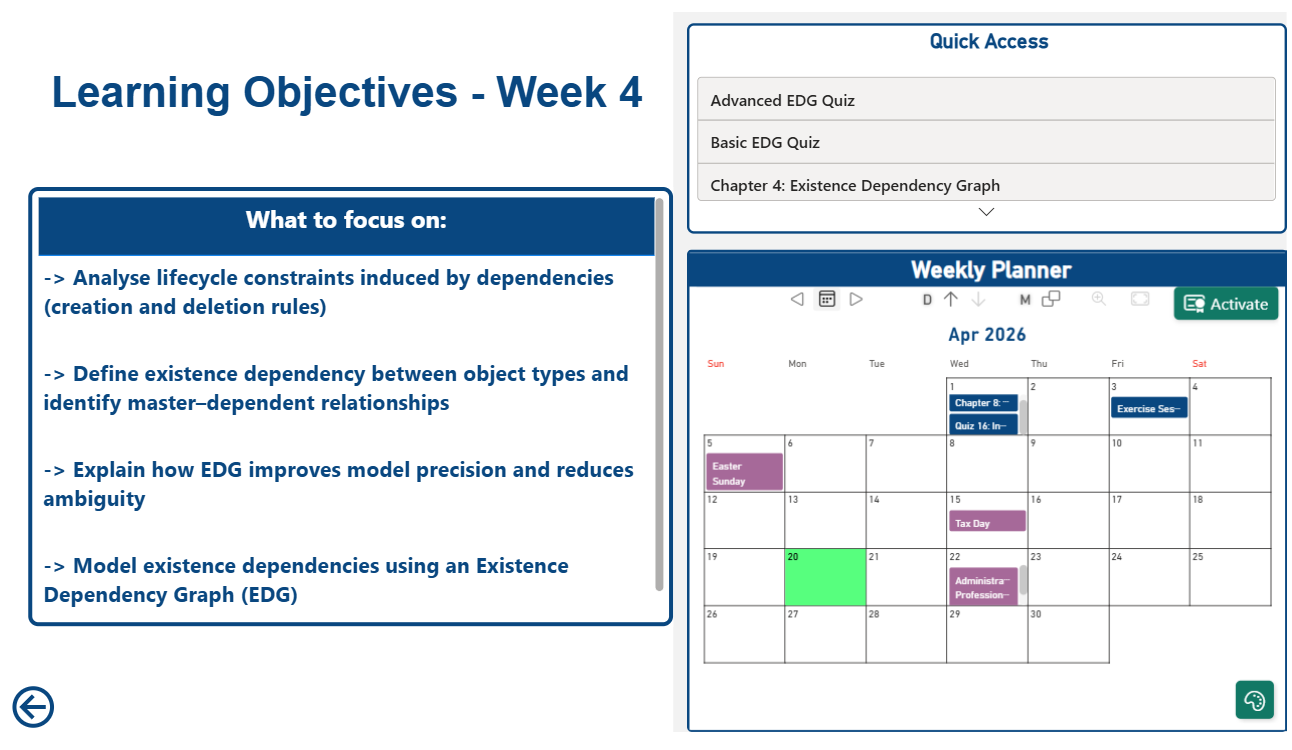

What the dashboard file says about the page in this screenshot:
{"tool":"powerbi","page":{"name":"Learning Objectives","canvas":[1280,720],"ordinal":1},"visuals":[{"type":"card","fields":{"Values":["Objectives.Selected Week Title"]},"box":[0,29.6,679.7,94.9],"z":1000},{"type":"shape","box":[666.3,0,613.4,720],"z":2000},{"type":"tableEx","fields":{"Values":["Objectives.BOBJ"]},"box":[21.5,175.5,644.8,438.8],"z":4000},{"type":"calendarProByOKVIZ359F68153F3C4C1B84994D4D62ED4EAC","title":"Weekly Planner","fields":{"events":["SemesterPlan.Event Name"],"date":["SemesterPlan.AdjustedDate"]},"box":[679.7,237.3,600,482.7],"z":5000},{"type":"cardVisual","title":"Quick Access","fields":{"Rows":["SemesterPlan.Event Name"]},"box":[679.7,10.7,600,210.4],"z":6000},{"type":"actionButton","box":[0,668.8,87.5,52.5],"z":7000},{"type":"image","box":[682.3,708,12.2,12.2],"z":8000}]}

Visuals, with their boxes on the page's 1280x720 design canvas (x1, y1, x2, y2). These are canvas units, not pixel positions in the 1292x750 screenshot, which may show the page scaled, cropped or inside an application window:
card - Objectives.Selected Week Title: (0, 30, 680, 124)
shape: (666, 0, 1280, 720)
tableEx - Objectives.BOBJ: (22, 176, 666, 614)
"Weekly Planner" calendarProByOKVIZ359F68153F3C4C1B84994D4D62ED4EAC: (680, 237, 1280, 720)
"Quick Access" cardVisual: (680, 11, 1280, 221)
actionButton: (0, 669, 88, 721)
image: (682, 708, 694, 720)
